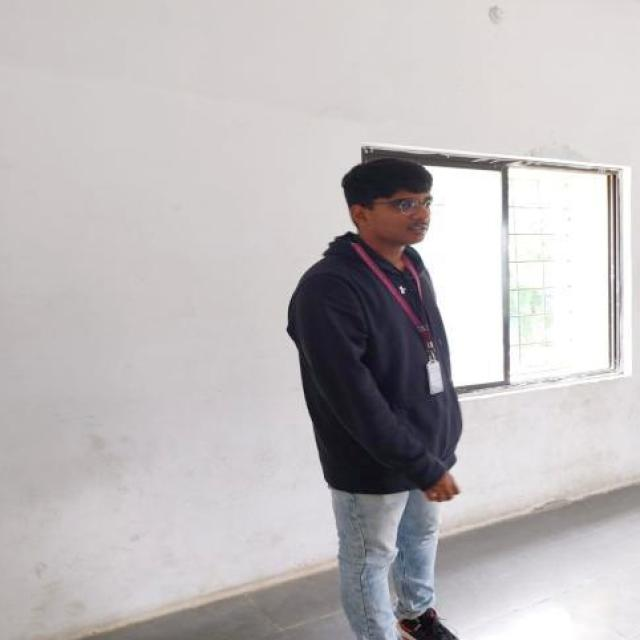ID_card: (354, 239, 453, 389)
